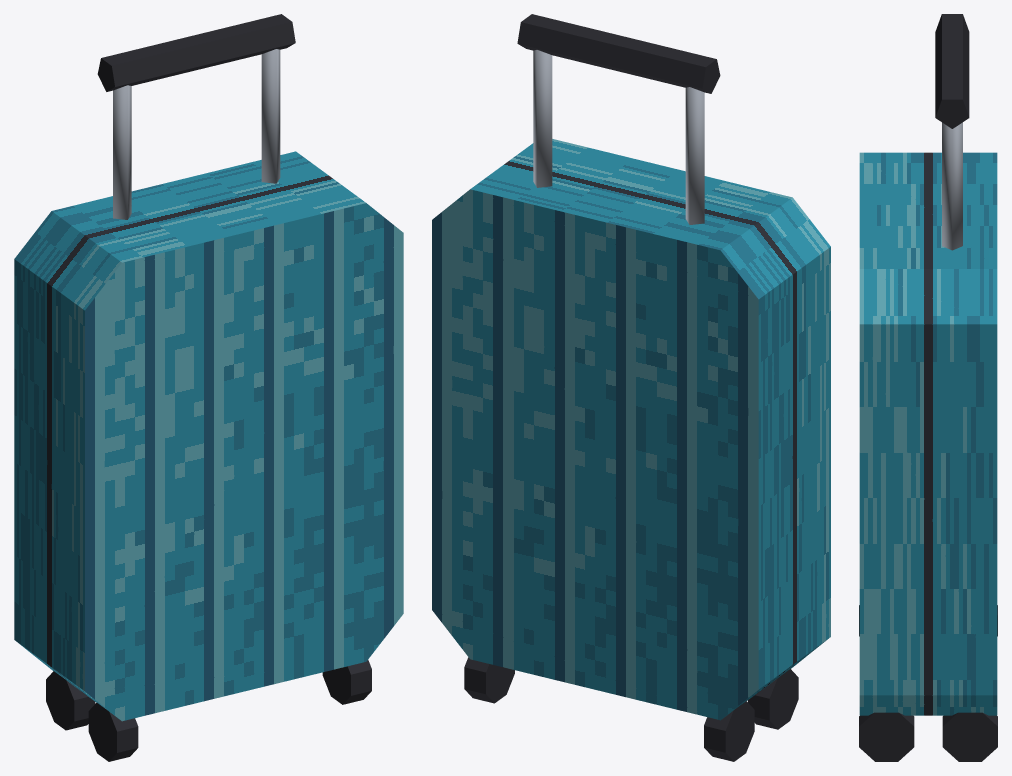
The model's file is life-suitcase.glb.
3 renders of one model, left to right at view 1: azimuth 30°, elevation 25°; view 2: azimuth 150°, elevation 25°; view 3: azimuth 270°, elevation 25°, orthographic. The views are drawn at different scales.
Parts seen in each view (by area): view 1: life.suitcase; view 2: life.suitcase; view 3: life.suitcase.
Boxes of the visible parts, x1=… form: life.suitcase: x1=14, y1=14, x2=403, y2=761; life.suitcase: x1=432, y1=14, x2=830, y2=761; life.suitcase: x1=859, y1=14, x2=997, y2=761.
Size of the model in its own units: 0.926 by 1.84 by 0.3586.
Materials: 4 (3 with a texture image).
